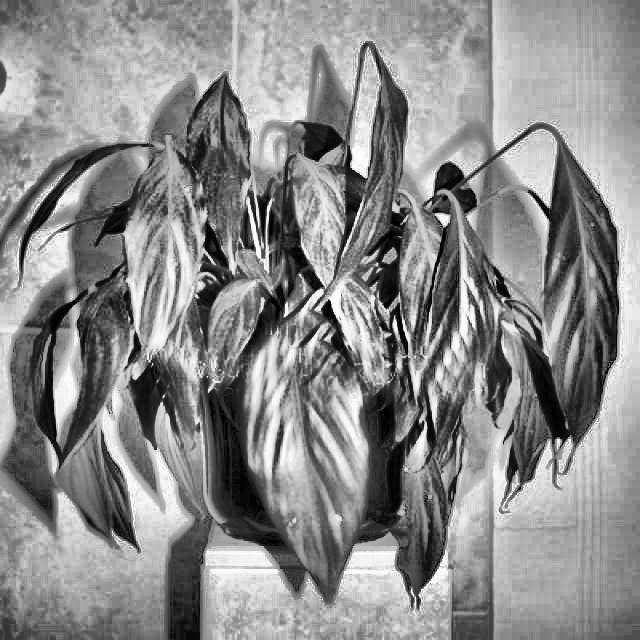plants: (5, 45, 640, 608)
